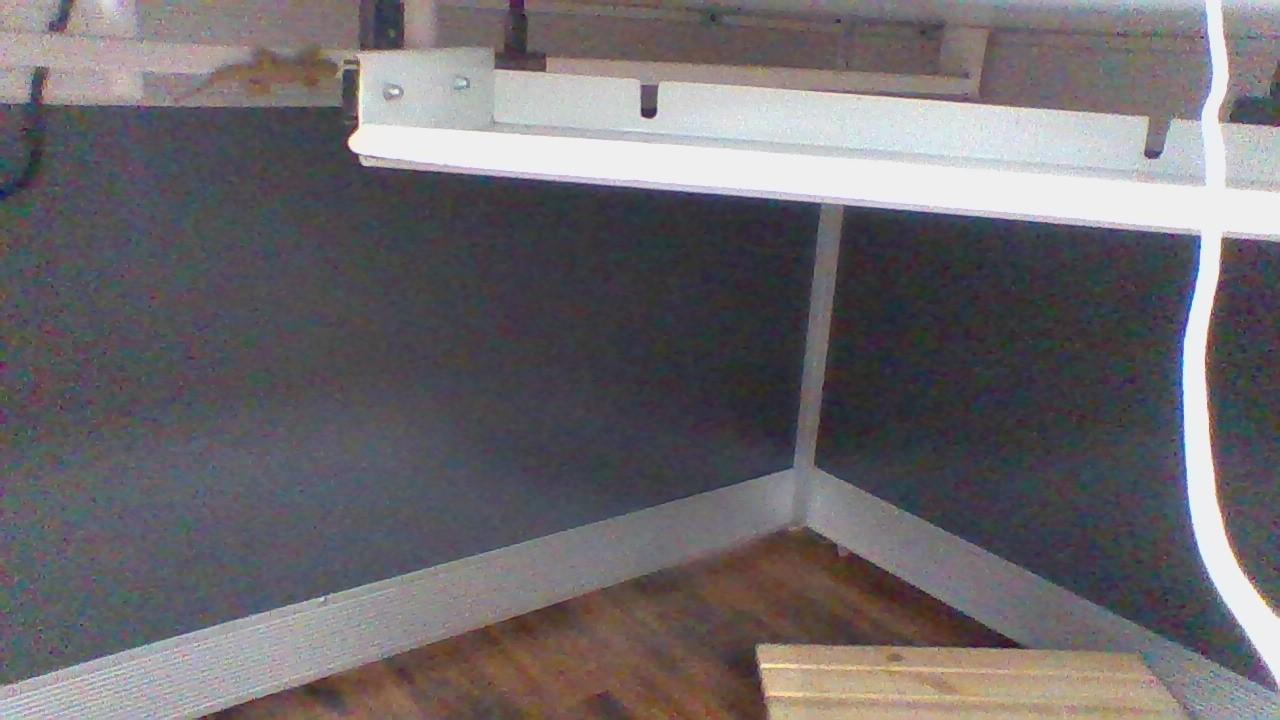lizard: (142, 40, 370, 113)
